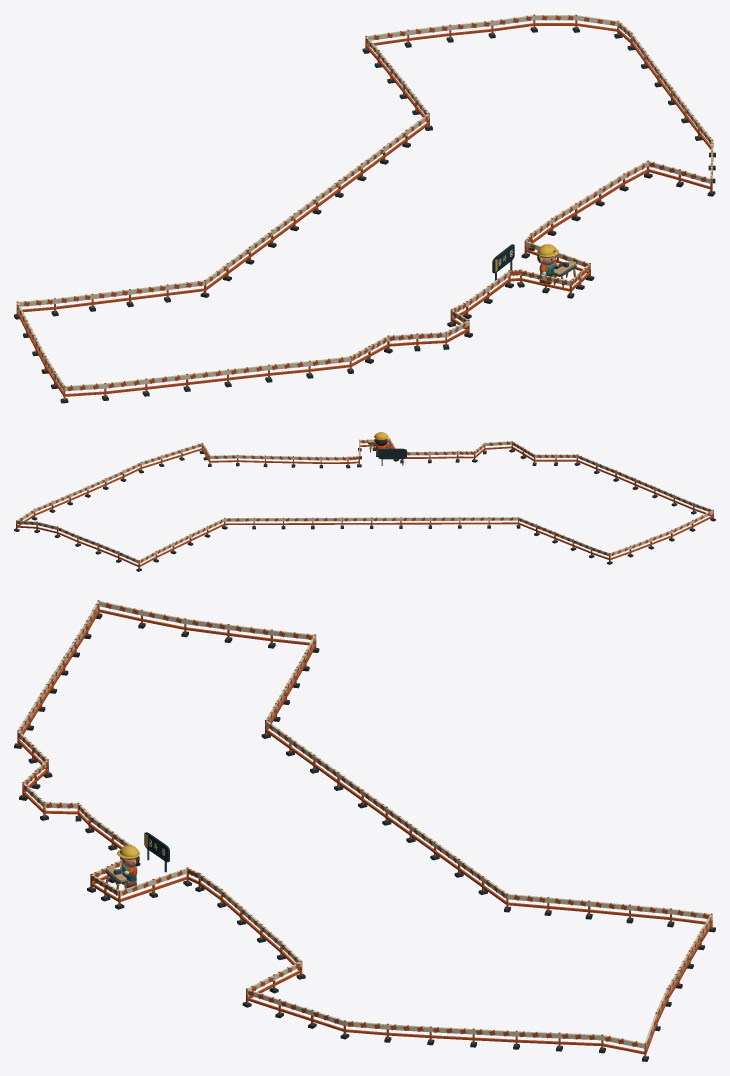
Rendered from campus-e2-worksite.glb.
The picture shows the model from 3 angles, top to bottom: view 1: azimuth 30°, elevation 25°; view 2: azimuth 150°, elevation 25°; view 3: azimuth 270°, elevation 25°; orthographic projection. The views are drawn at different scales.
Visible parts, largest first — view 1: E2_Barriers; view 2: E2_Barriers, E2_ConstructionSign, E2_Builder; view 3: E2_Barriers.
Boxes of the visible parts, x1=… form: E2_Barriers: x1=14, y1=14, x2=715, y2=403; E2_Barriers: x1=14, y1=438, x2=715, y2=571; E2_ConstructionSign: x1=378, y1=448, x2=406, y2=465; E2_Builder: x1=374, y1=432, x2=389, y2=456; E2_Barriers: x1=14, y1=600, x2=715, y2=1061.
Bounding box in the file's own units: 56.99 × 3.4 × 40.19.
